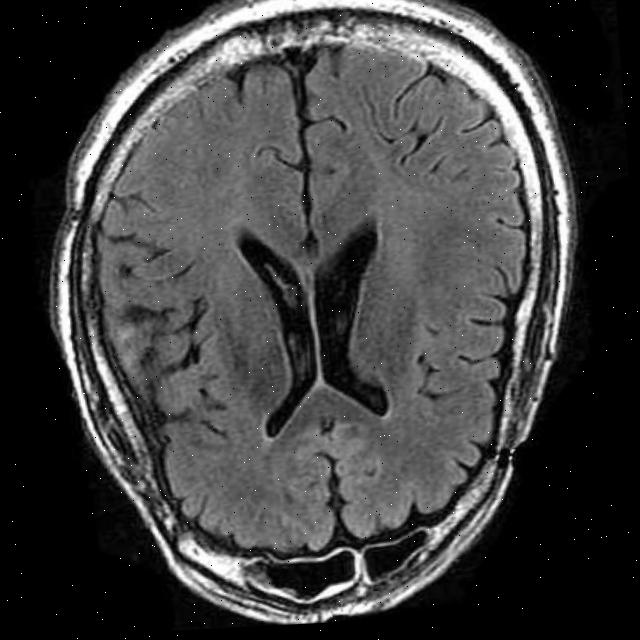NoTumor: (14, 0, 619, 639)
